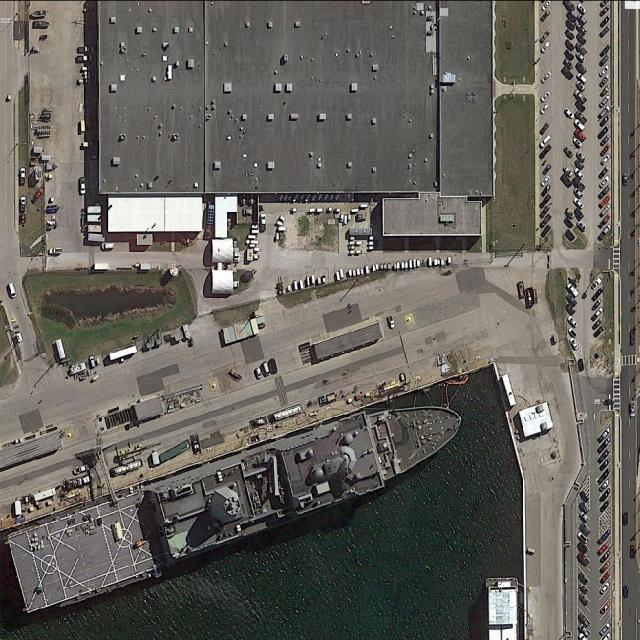Auxiliary Ships: (1, 381, 480, 619)
